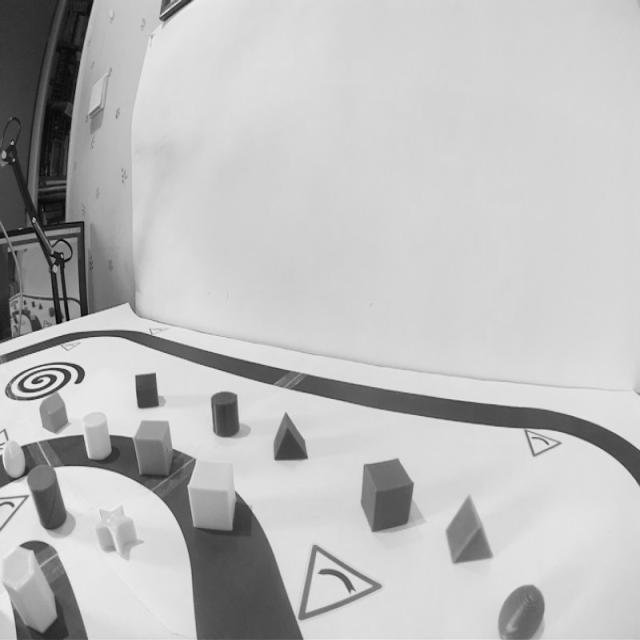ball: (494, 576, 552, 640), (0, 436, 29, 481)
cube: (184, 452, 240, 542), (358, 452, 416, 538), (130, 414, 176, 478)
cylinder: (22, 462, 72, 534), (207, 386, 243, 442)
hexagon: (0, 543, 61, 631), (79, 407, 115, 465)
home: (37, 391, 69, 437), (131, 372, 163, 409)
leftTurn: (260, 528, 390, 628)
nest: (3, 358, 87, 403)
star: (91, 502, 141, 562)
triangle: (439, 491, 497, 567), (269, 409, 313, 465)
